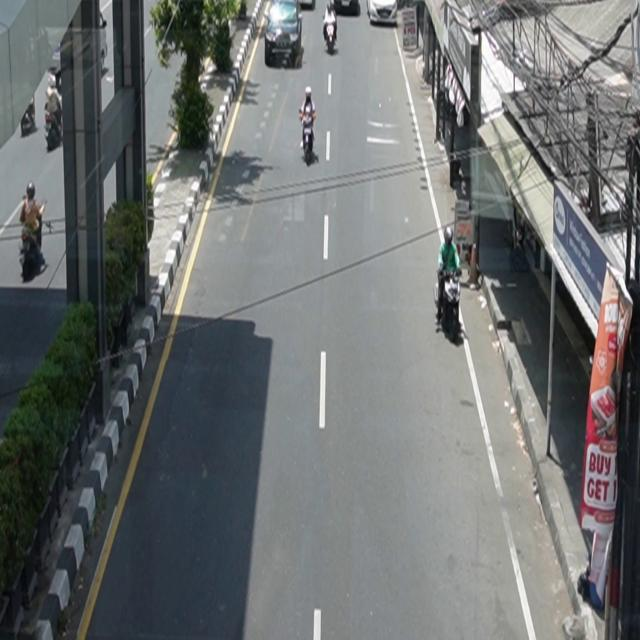car: (265, 1, 304, 69), (368, 1, 399, 26)
